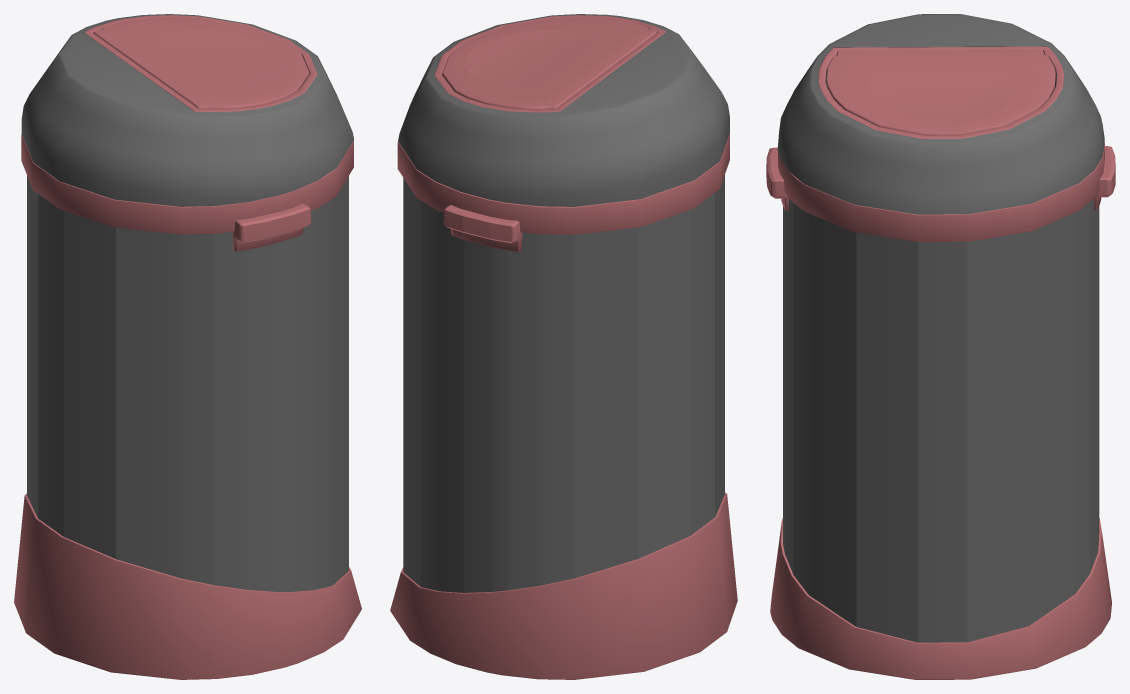
The model's file is trashCan.fbx.
3 renders of one model, left to right at view 1: azimuth 30°, elevation 25°; view 2: azimuth 150°, elevation 25°; view 3: azimuth 270°, elevation 25°, orthographic.
Parts seen in each view (by area): view 1: polySurface10; view 2: polySurface10; view 3: polySurface10.
Boxes of the visible parts, x1=… form: polySurface10: x1=14, y1=14, x2=361, y2=679; polySurface10: x1=390, y1=14, x2=737, y2=679; polySurface10: x1=766, y1=14, x2=1115, y2=679.
Size of the model in its own units: 11.87 by 21.03 by 12.25.
